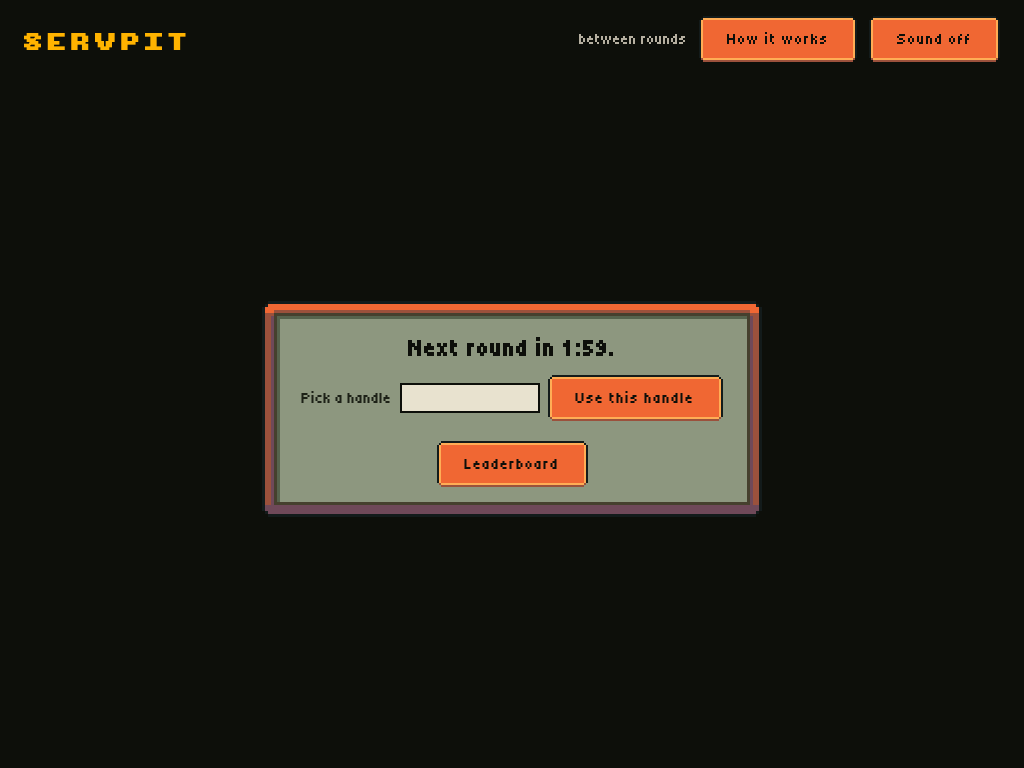
Test: choosing a handle › lets the visitor recover in the same session, by taking one of them
The image size is (1024, 768).
Type "ash" into the field labelled "Pick a handle".
click(470, 398); type("ash")  # box [400, 383, 540, 413]
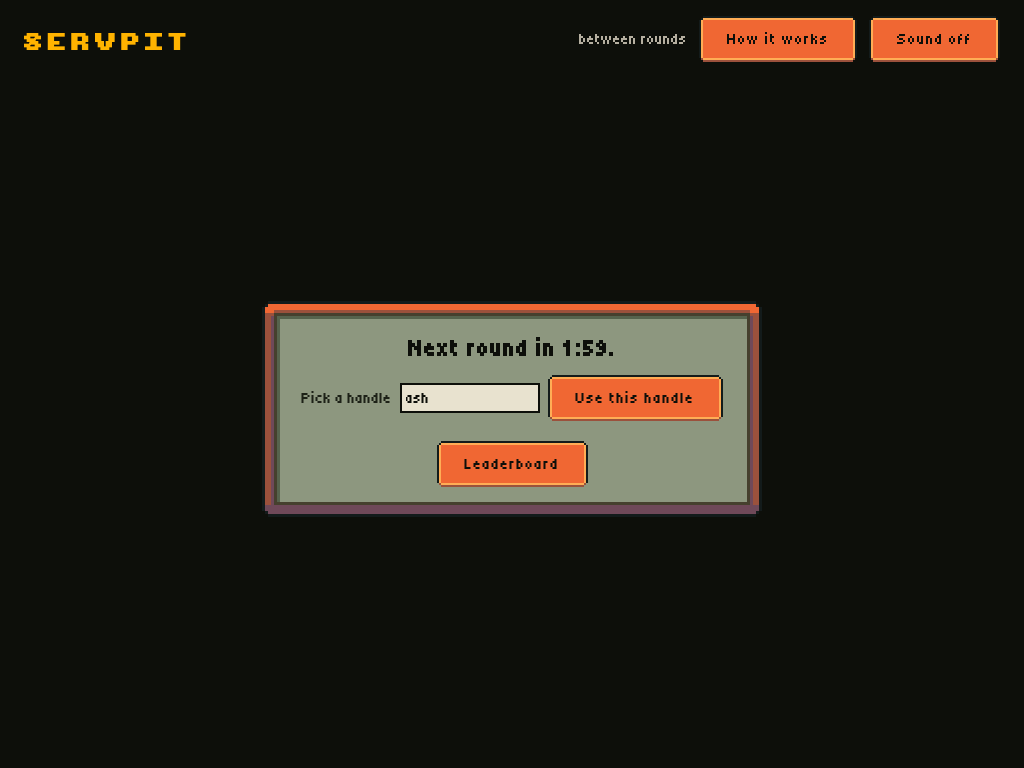
Click the button "Use this handle".
click(635, 398)  # box [548, 375, 722, 421]
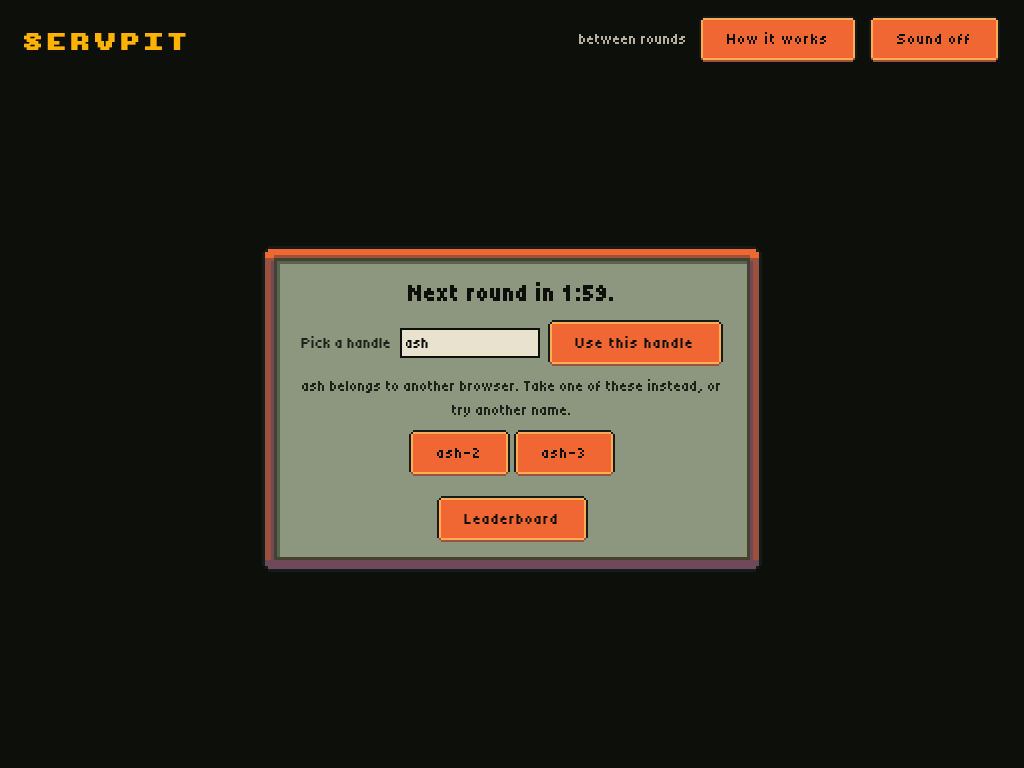
Check: the button "ash-2" is shown
Click the button "ash-2".
click(460, 453)  # box [409, 430, 510, 476]
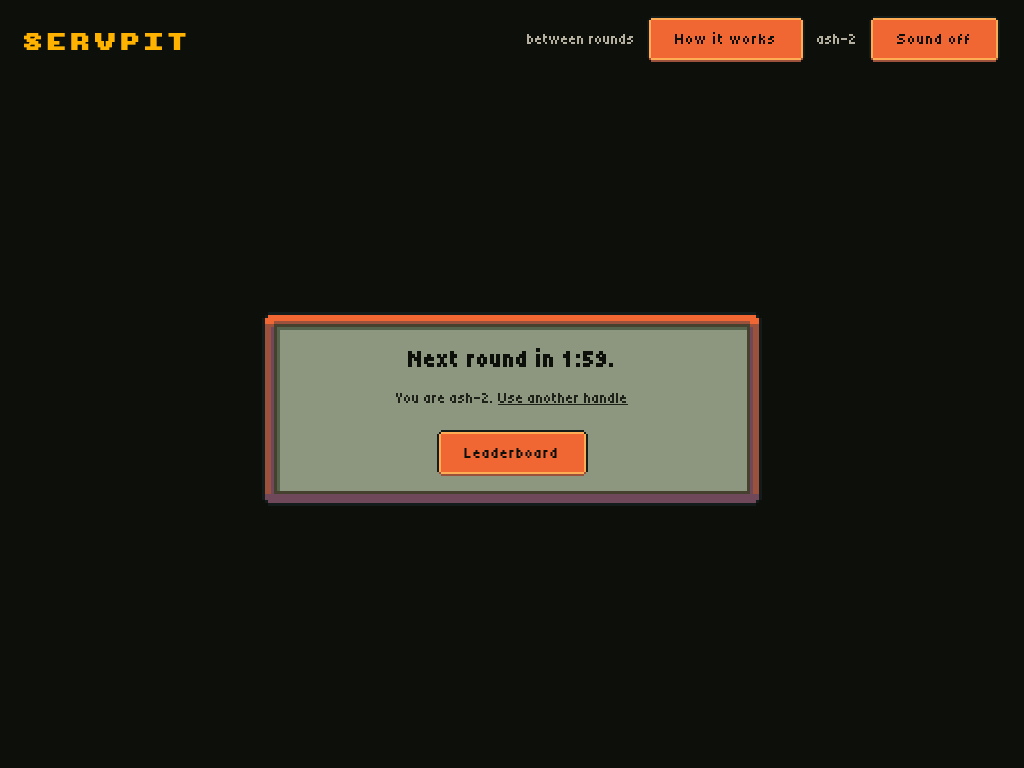
Check: the text "You are ash-2." is shown, box [396, 386, 628, 410]
Check: the label labelled "Pick a handle" is gone
